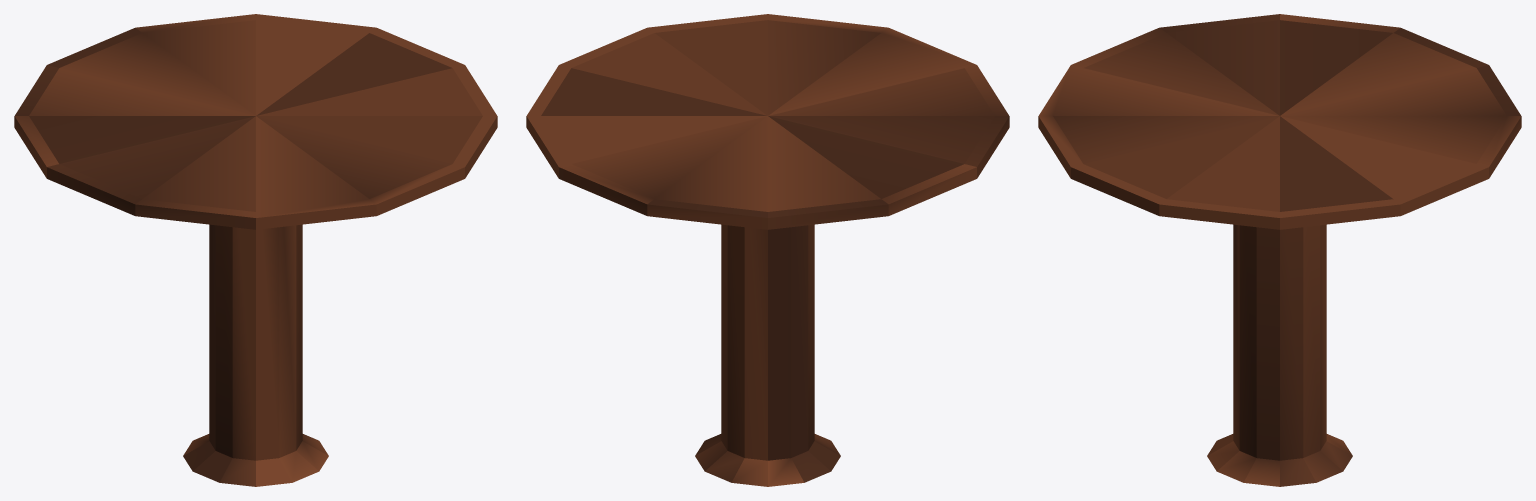
Rendered from SM_desk.FBX.
3 renders of one model, left to right at view 1: azimuth 30°, elevation 25°; view 2: azimuth 150°, elevation 25°; view 3: azimuth 270°, elevation 25°, orthographic.
Visible parts, largest first — view 1: desk; view 2: desk; view 3: desk.
Part boxes in pixels (x1=…): desk: x1=14, y1=14, x2=497, y2=486; desk: x1=526, y1=14, x2=1009, y2=486; desk: x1=1038, y1=14, x2=1521, y2=486.
Bounding box in the file's own units: 100 × 77.68 × 100.
